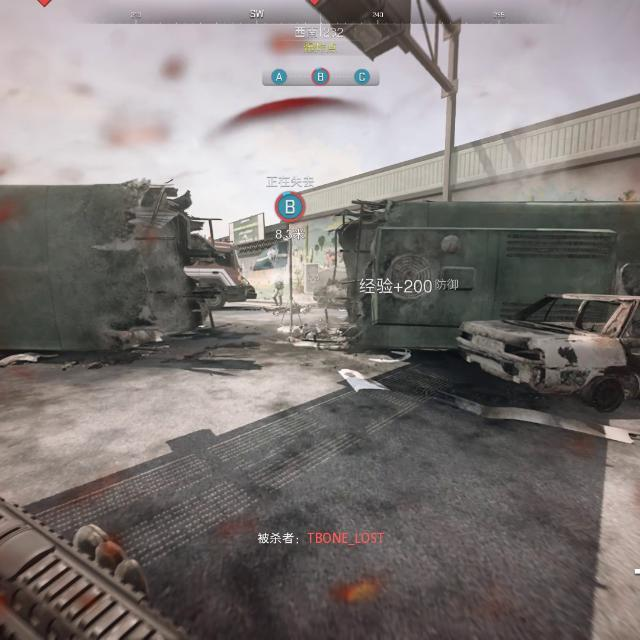MW2_body: (272, 276, 285, 306)
